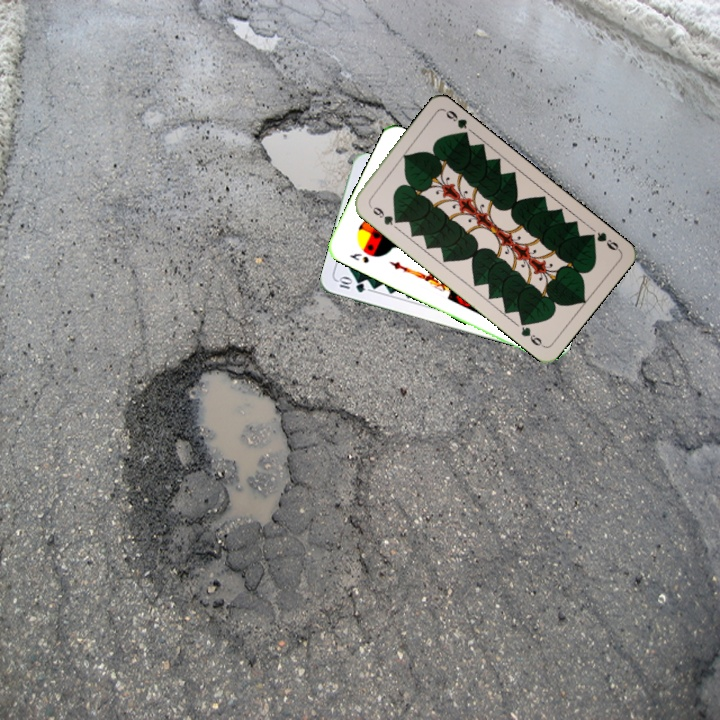G10: (334, 274, 368, 295)
G9: (365, 200, 402, 228), (584, 228, 622, 253)
SK: (346, 249, 372, 266)
